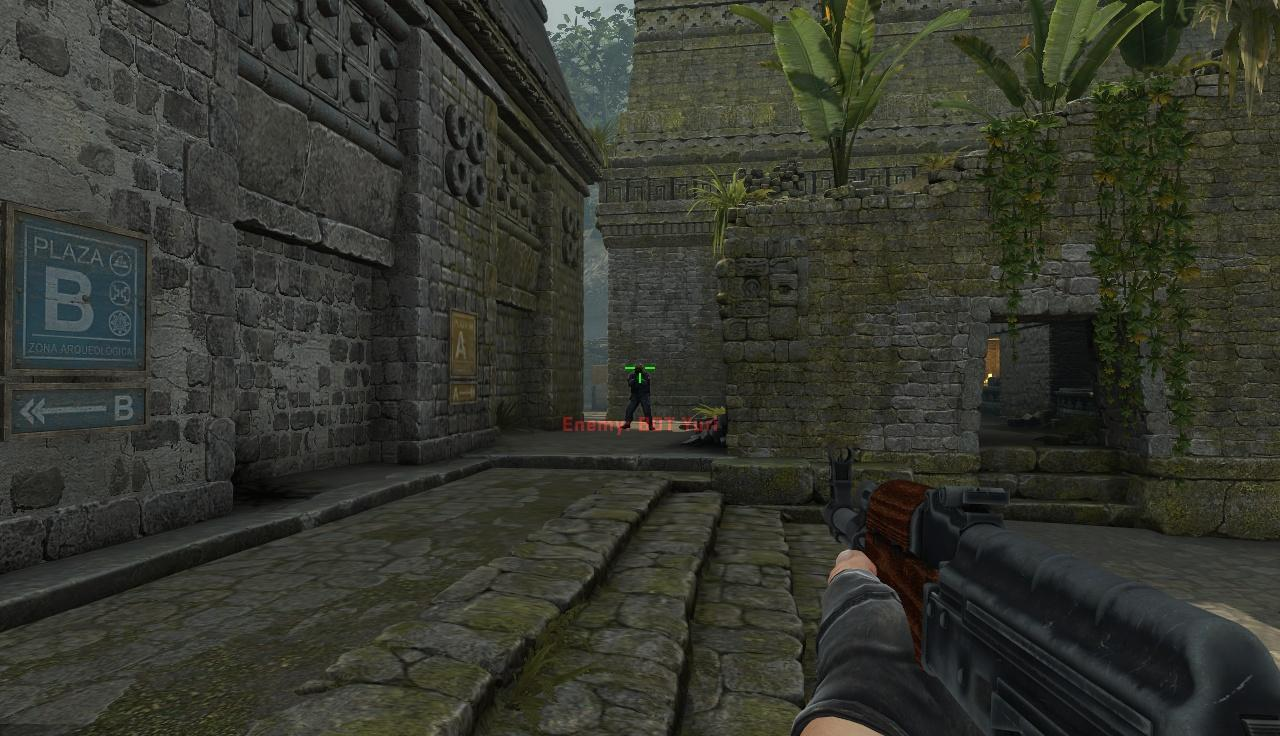ct: (628, 366, 652, 431)
cthead: (633, 365, 645, 377)
rifle: (819, 441, 1280, 731)
